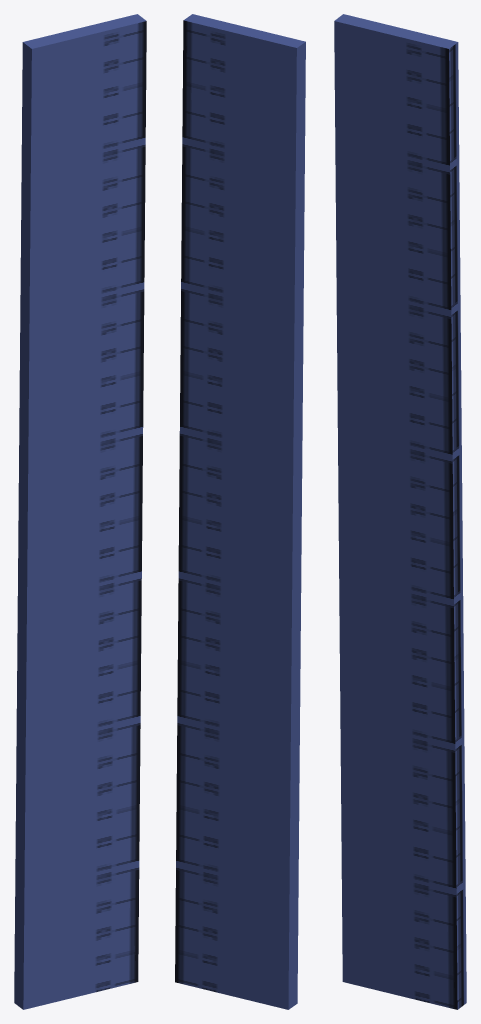
Rendered from SM_Ruler.fbx.
3 renders of one model, left to right at view 1: azimuth 30°, elevation 25°; view 2: azimuth 150°, elevation 25°; view 3: azimuth 330°, elevation 25°, orthographic.
Parts seen in each view (by area): view 1: SM_Ruler; view 2: SM_Ruler; view 3: SM_Ruler.
Part boxes in pixels (bbox=[...]): SM_Ruler: bbox=[14, 14, 146, 1009]; SM_Ruler: bbox=[175, 14, 305, 1009]; SM_Ruler: bbox=[334, 14, 466, 1009].
Size of the model in its own units: 1.81 by 14.54 by 0.4825.
